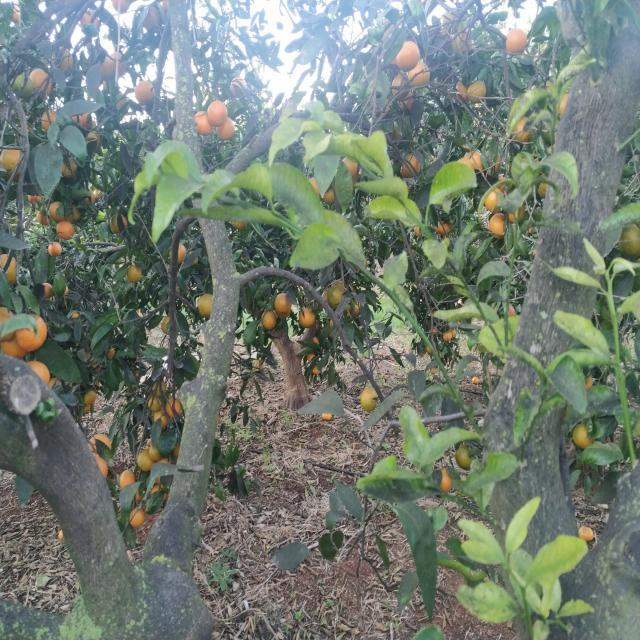Jeruk Belum Matang: (328, 282, 354, 314), (619, 223, 640, 260), (0, 252, 17, 290), (0, 146, 23, 174), (454, 444, 474, 470), (573, 424, 594, 448), (13, 74, 32, 100), (468, 80, 486, 105), (137, 449, 153, 472), (198, 294, 213, 316), (125, 266, 143, 284), (148, 396, 162, 412), (152, 381, 166, 396), (148, 446, 162, 460)
Jeruk Sudah Matang: (17, 316, 47, 352), (24, 360, 52, 388), (0, 304, 18, 343), (29, 69, 51, 97), (406, 63, 431, 87), (397, 41, 419, 68), (512, 118, 532, 146), (207, 100, 226, 127), (506, 29, 526, 54), (401, 154, 421, 179), (391, 73, 409, 99), (0, 339, 24, 358), (136, 81, 155, 104), (490, 214, 508, 238), (194, 114, 212, 138), (72, 111, 92, 132), (486, 187, 504, 209), (89, 434, 111, 452), (58, 46, 72, 74), (110, 52, 126, 76), (217, 120, 236, 140), (80, 10, 99, 30), (274, 293, 291, 315), (56, 222, 76, 240), (129, 506, 146, 527), (361, 389, 376, 412), (95, 453, 108, 478), (464, 152, 482, 170), (169, 244, 187, 262), (508, 206, 525, 225), (109, 213, 126, 232), (299, 308, 315, 328), (308, 178, 321, 202), (440, 468, 452, 493), (342, 157, 358, 175), (102, 58, 115, 80), (262, 310, 276, 330), (166, 398, 181, 416), (120, 470, 135, 488), (41, 110, 55, 129), (50, 202, 64, 220), (436, 220, 450, 235), (112, 0, 128, 13), (48, 243, 62, 257), (152, 486, 166, 500), (41, 283, 52, 298), (11, 5, 20, 22), (162, 316, 170, 334), (306, 353, 316, 362), (442, 332, 452, 341), (414, 226, 422, 237), (312, 364, 320, 374), (322, 412, 332, 420)
